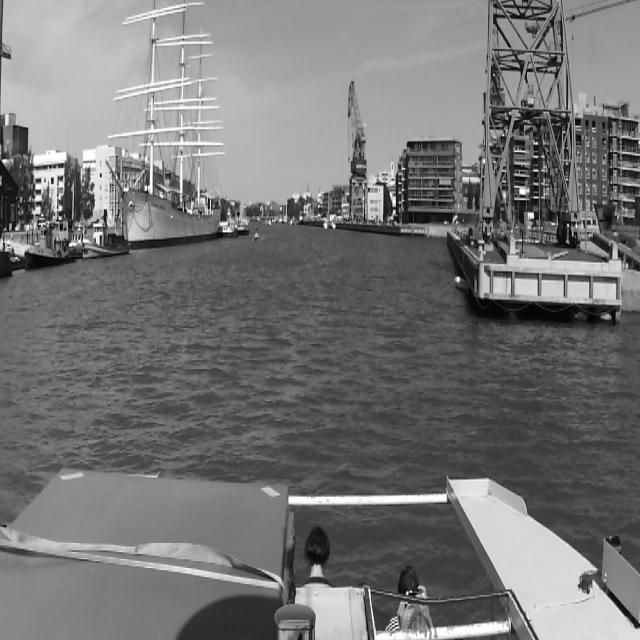ship: (107, 0, 223, 246), (20, 209, 78, 273), (77, 228, 133, 258), (322, 189, 338, 234), (220, 222, 236, 238), (252, 228, 261, 247), (240, 221, 249, 235), (253, 224, 259, 231)
